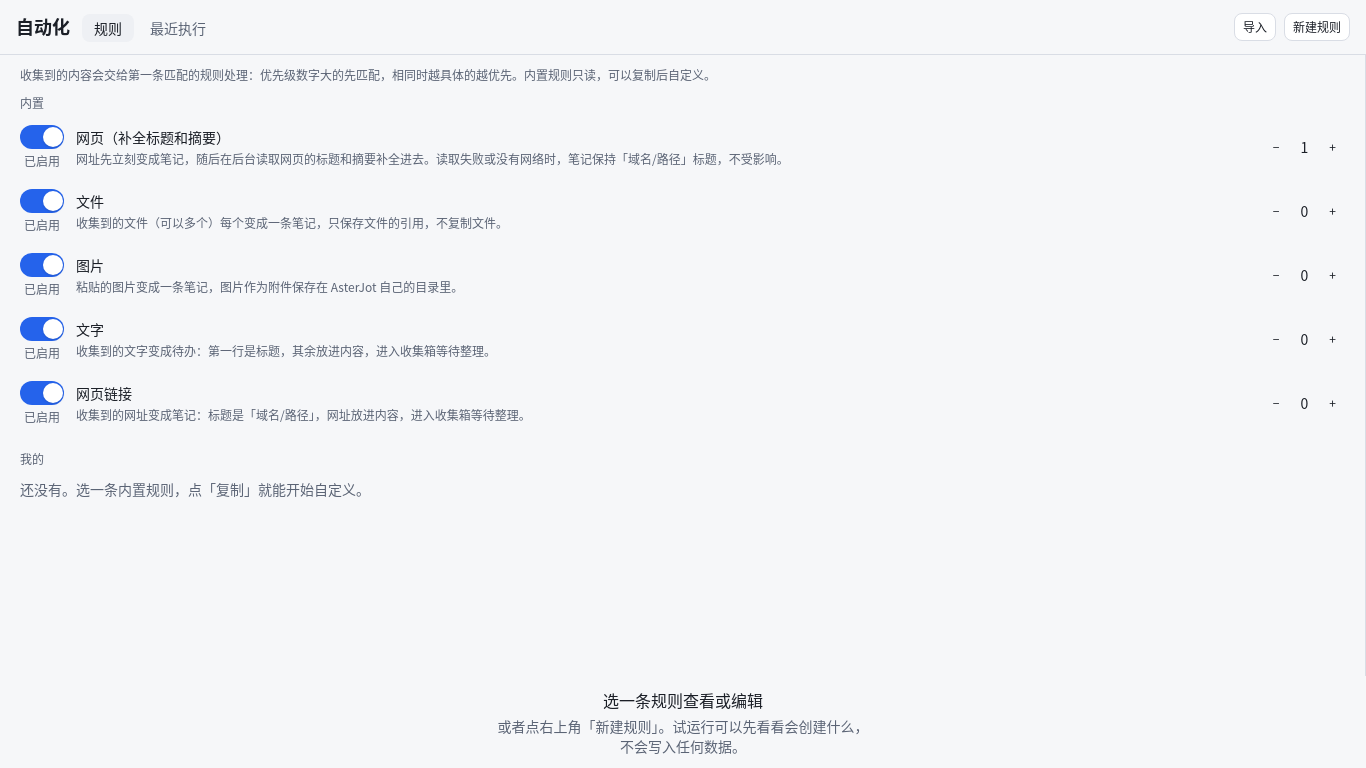
Scenario: Workflow 管理页 › 内置在前分组显示，内置的可以禁用但不能直接编辑
Check: the number of list items is 5, box top-left (12, 115), bottom-right (1353, 179); top-left (12, 179), bottom-right (1353, 243); top-left (12, 243), bottom-right (1353, 307); top-left (12, 307), bottom-right (1353, 371); top-left (12, 371), bottom-right (1353, 435)
Click the switch named "启用 网页链接" at (42, 393), box top-left (20, 381), bottom-right (64, 405)
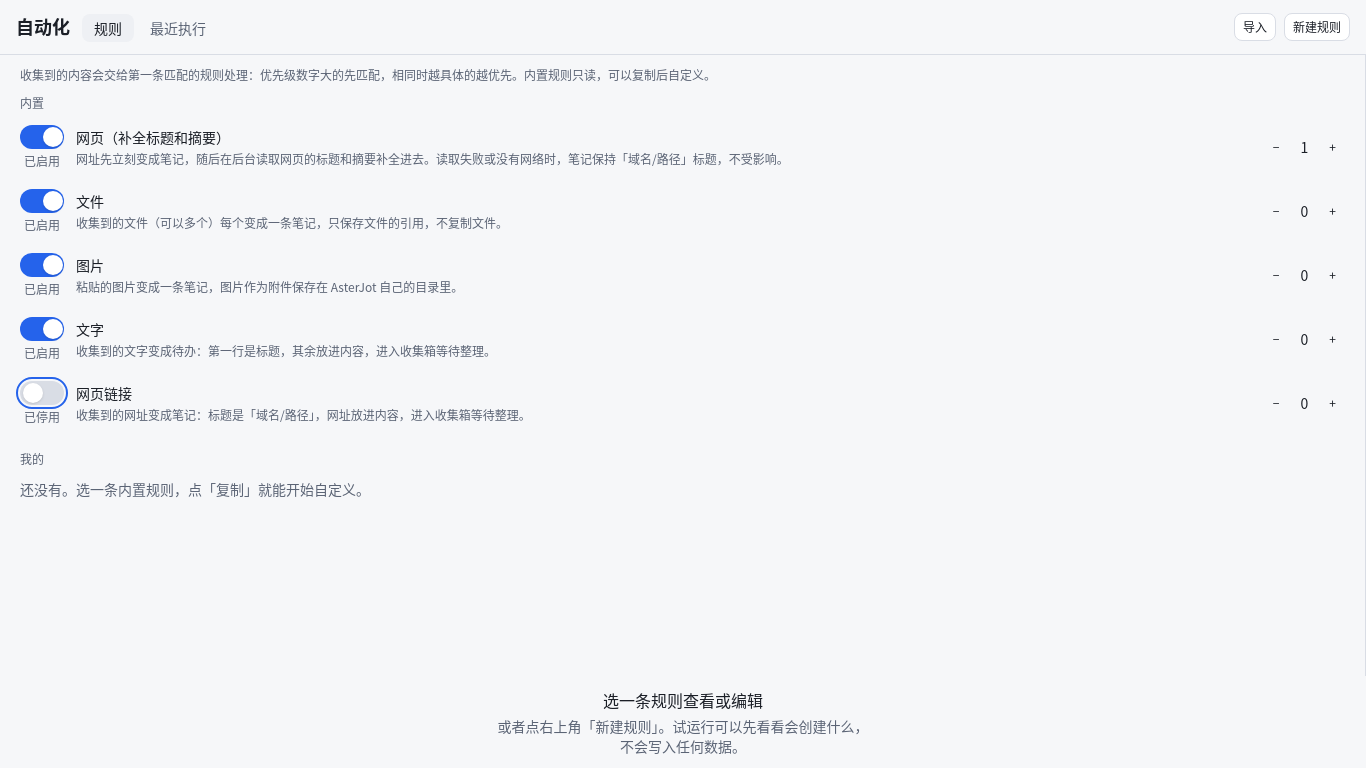
Click the button "网页链接 收集到的网址变成笔记：标题是「域名/路径」，网址放进内容，进入收集箱等待整理。" at (104, 393), box top-left (76, 383), bottom-right (1252, 423)
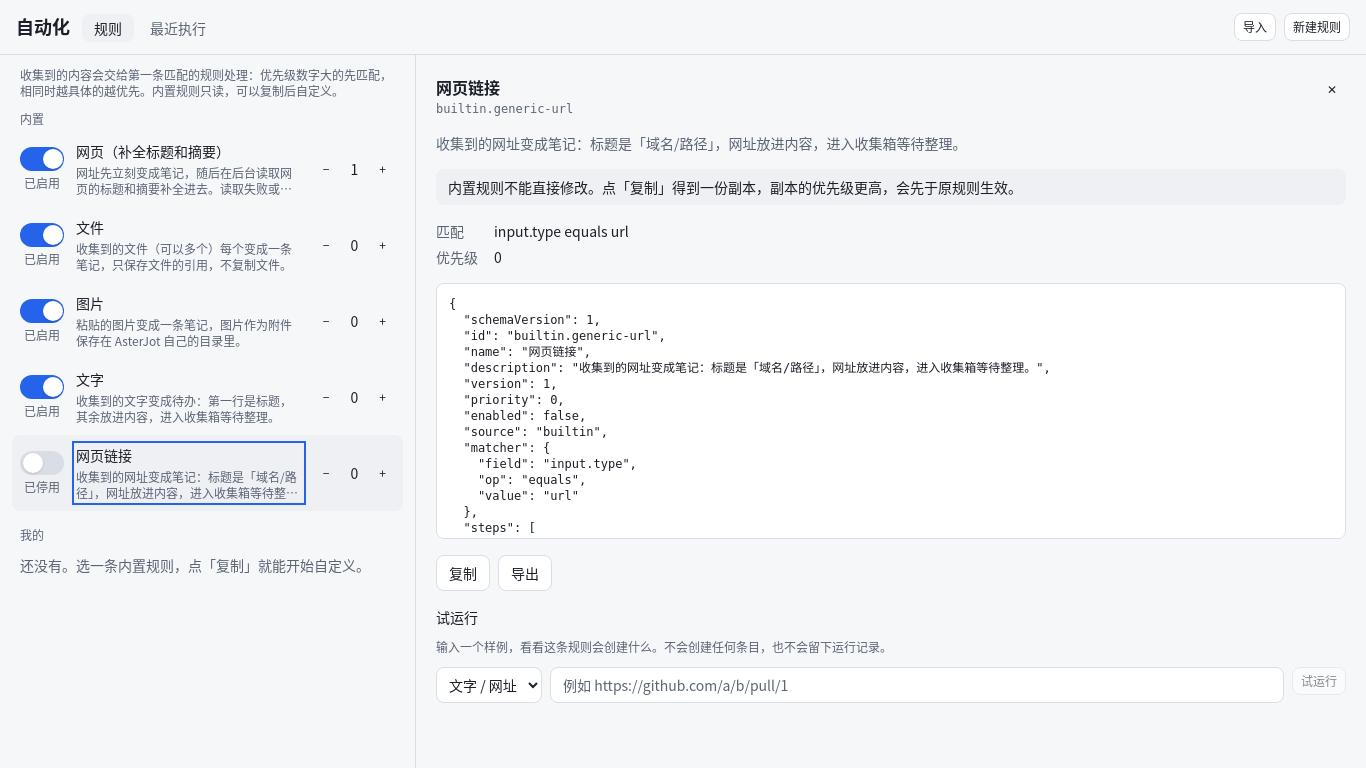
Check: the text "内置规则不能直接修改。点「复制」得到一份副本，副本的优先级更高，会先于原规则生效。" is shown, box top-left (436, 169), bottom-right (1346, 205)
